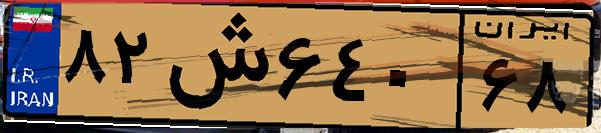0: (385, 28, 445, 110)
2: (110, 28, 158, 98)
4: (330, 28, 385, 110)
6: (270, 28, 330, 110), (475, 38, 525, 113)
8: (57, 26, 110, 100), (525, 38, 570, 115)
ش: (158, 12, 270, 120)
